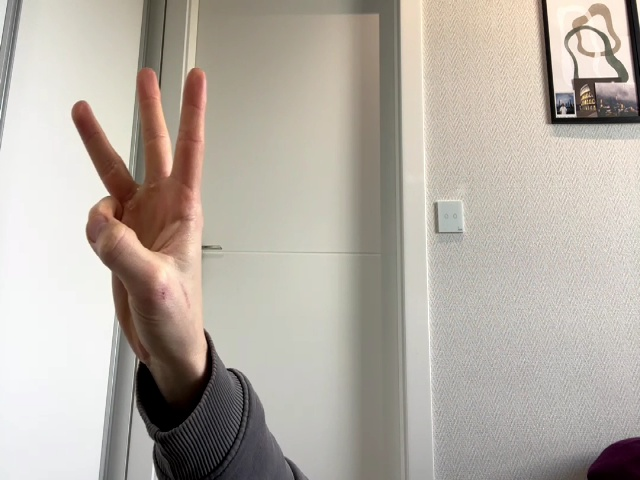W: (72, 67, 207, 347)
